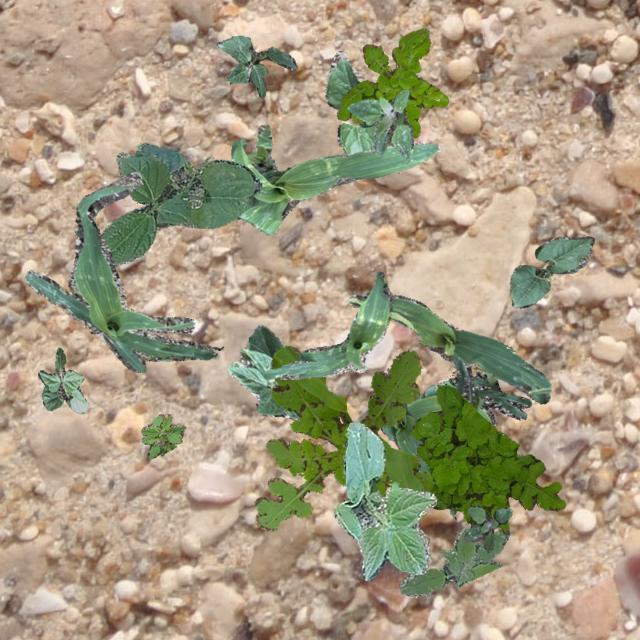crop: (24, 170, 222, 372), (231, 124, 439, 234), (348, 292, 550, 404), (100, 142, 260, 264), (332, 420, 436, 580), (263, 271, 392, 378), (378, 402, 454, 516), (406, 368, 530, 426), (226, 324, 298, 419), (508, 235, 594, 308), (323, 50, 375, 154), (216, 34, 296, 96), (36, 347, 86, 412)
weed: (254, 344, 434, 530), (410, 384, 564, 534), (336, 27, 448, 136), (398, 526, 508, 596), (347, 88, 412, 162), (464, 504, 512, 552), (140, 413, 184, 458)
